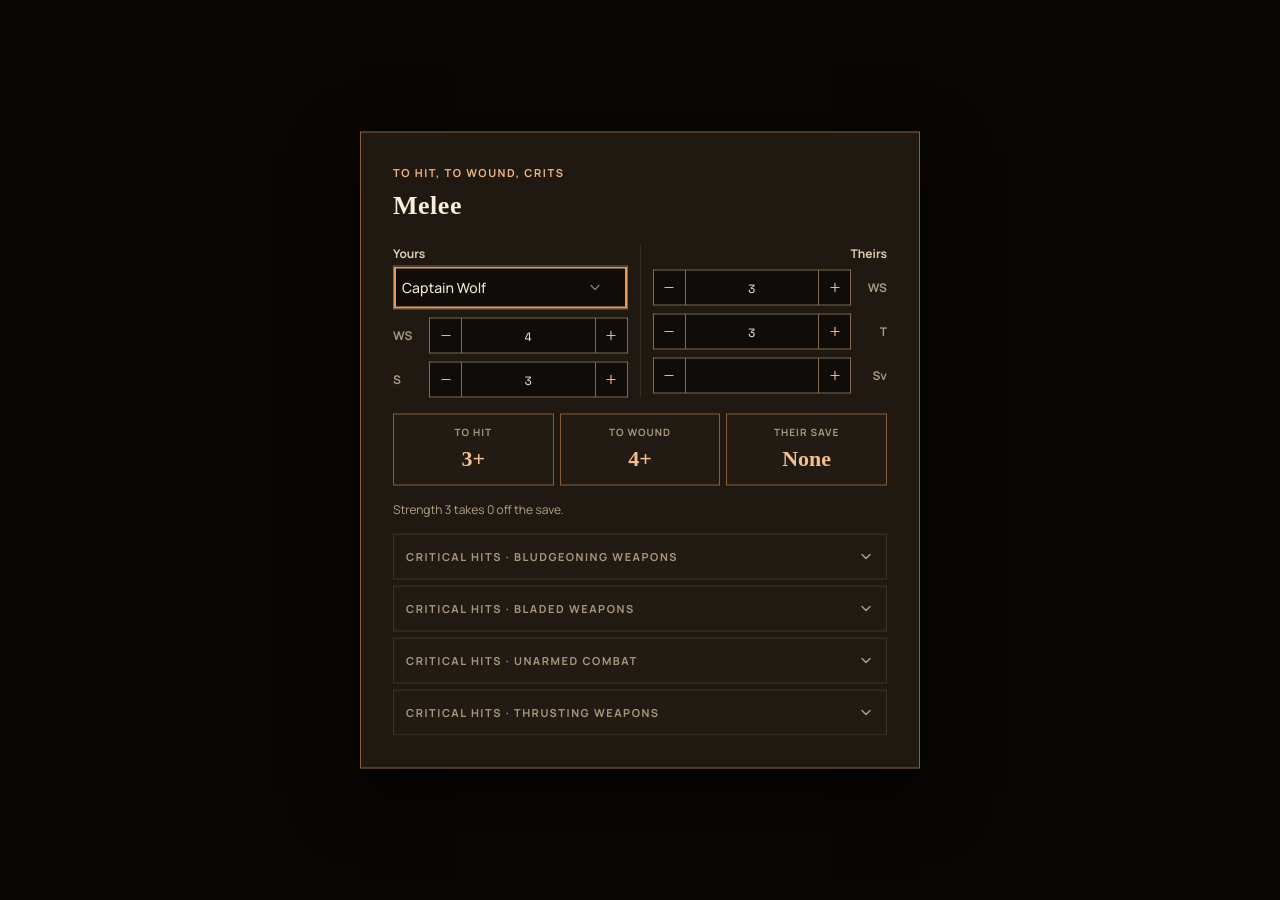
Scenario: the pickers' first pick (William, 25 Nov 2026: "just default to the top result") › offers no Type the numbers, and no picker at all with nobody to pick
Check: the number field labelled "T" is shown, box [684,314,819,350]
Click the dropdown named "Yours" at (510,288), box [393,266,628,310]
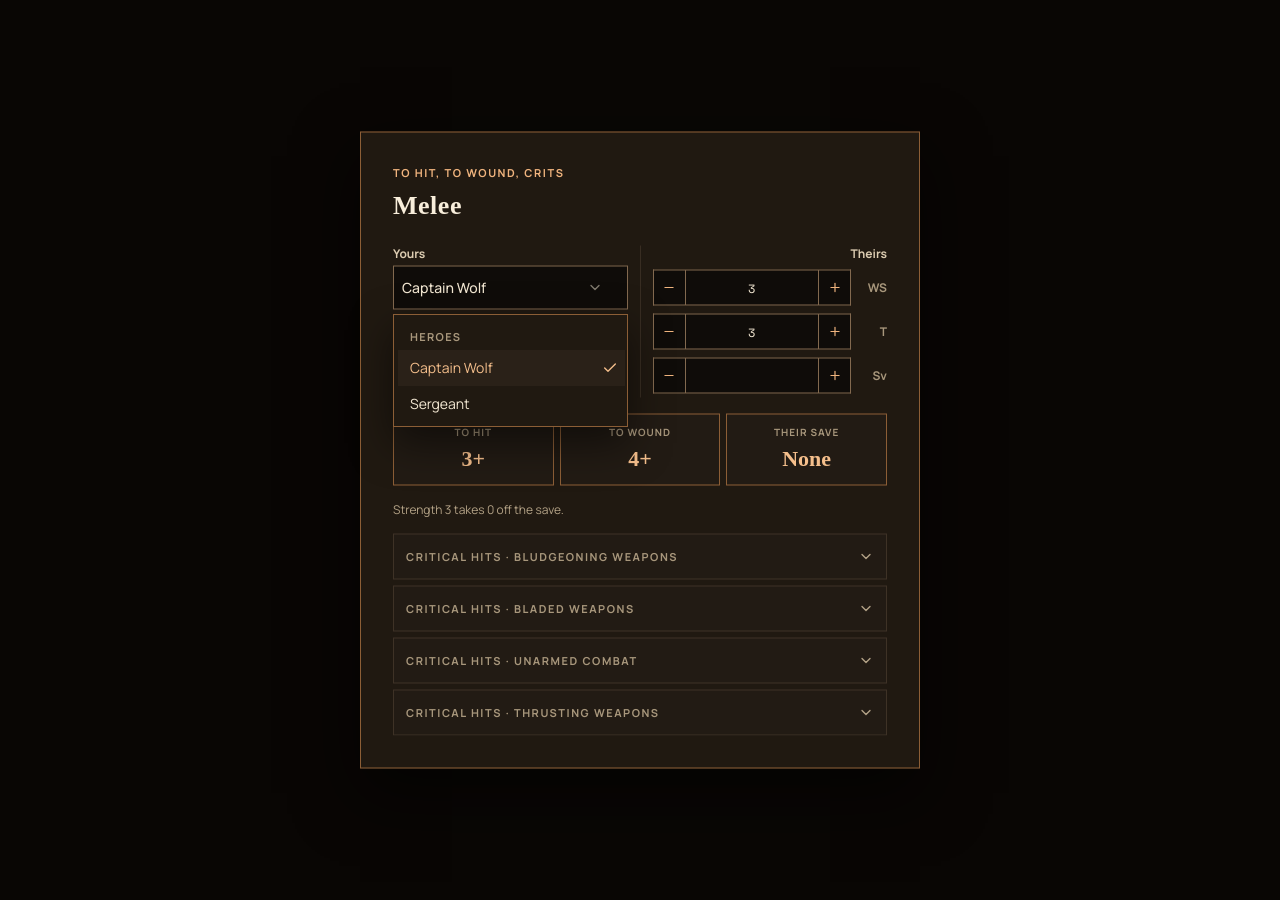
Check: the options read "Captain Wolf", "Sergeant", in this order, box [398,350,624,386]; [410,394,470,412]
